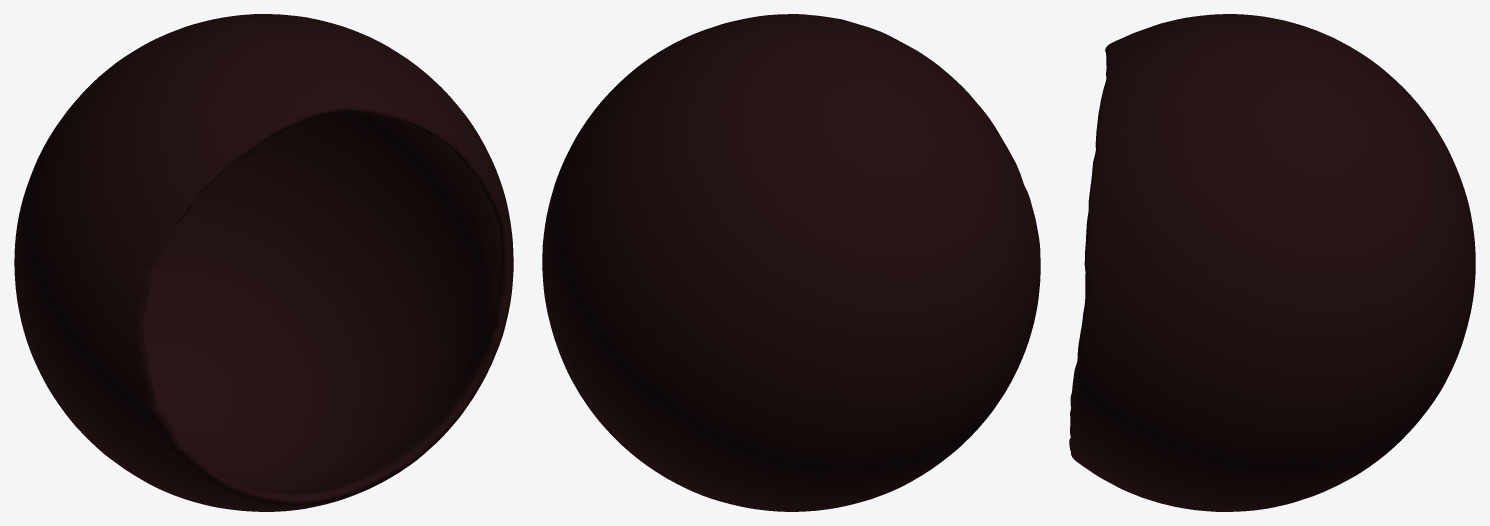
Rendered from Retina_right.glb.
3 renders of one model, left to right at view 1: azimuth 30°, elevation 25°; view 2: azimuth 150°, elevation 25°; view 3: azimuth 270°, elevation 25°, orthographic.
Parts seen in each view (by area): view 1: Retina-r_grp1.047; view 2: Retina-r_grp1.047; view 3: Retina-r_grp1.047.
Part boxes in pixels (x1,y1,x2,y2): Retina-r_grp1.047: (14, 14, 513, 511); Retina-r_grp1.047: (542, 14, 1040, 511); Retina-r_grp1.047: (1069, 14, 1475, 511).
Bounding box in the file's own units: 0.0219 × 0.0218 × 0.0178.
